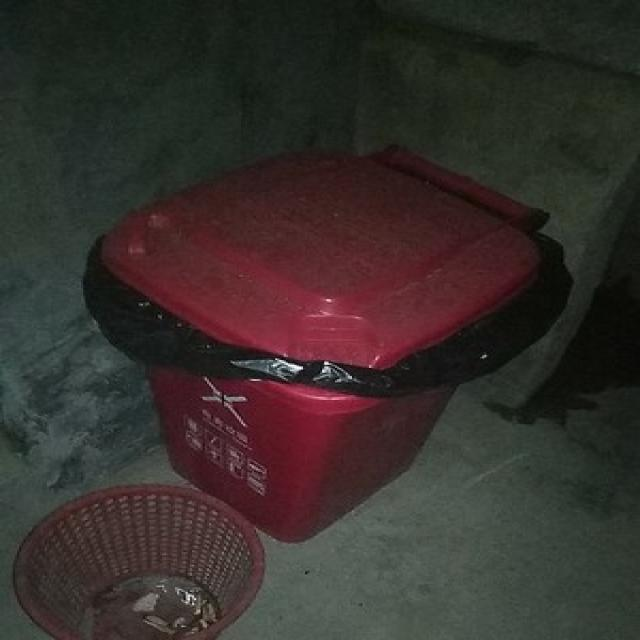ash bin: (96, 138, 557, 546)
